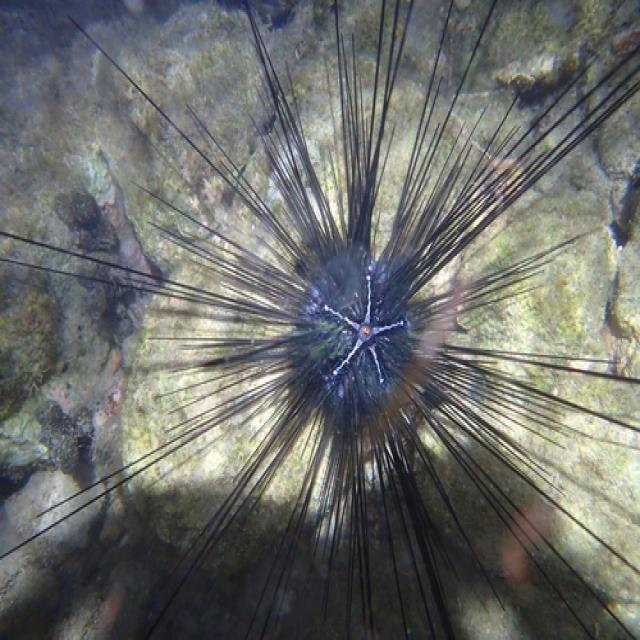Urchin: (16, 9, 638, 633)
